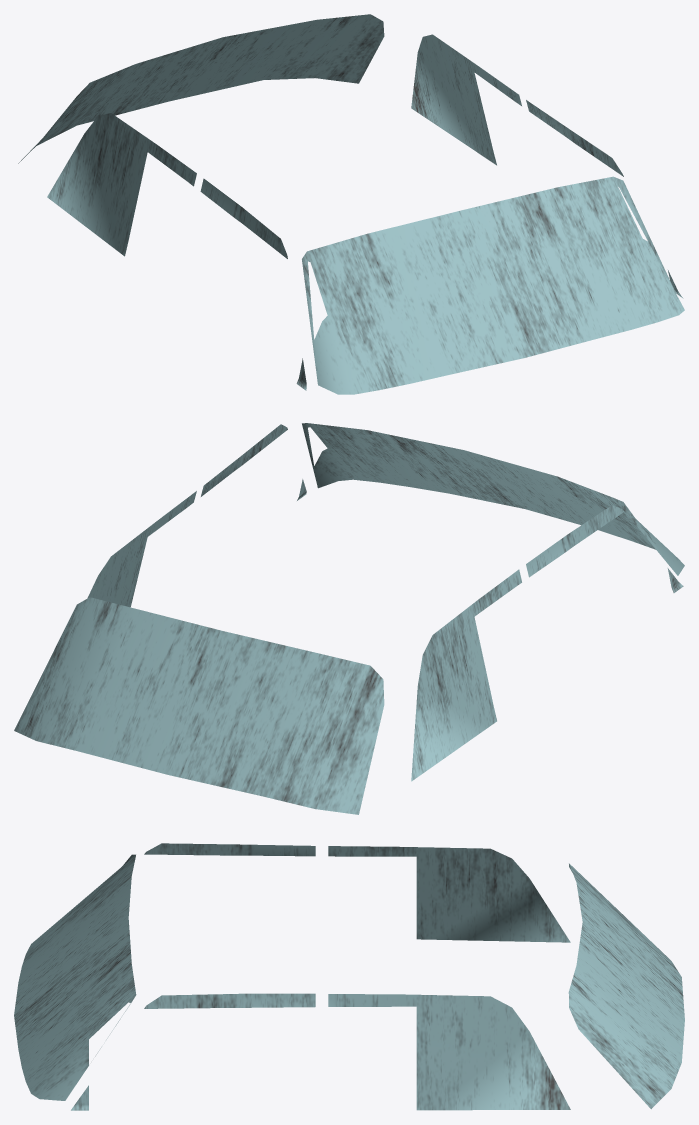
Rendered from glass.glb.
3 views of the same model, one above another, from view 1: azimuth 30°, elevation 25°; view 2: azimuth 150°, elevation 25°; view 3: azimuth 270°, elevation 25° (orthographic). The views are drawn at different scales.
Bounding box in the file's own units: 1.68 × 0.507 × 2.74.
1 material, 1 textured.
